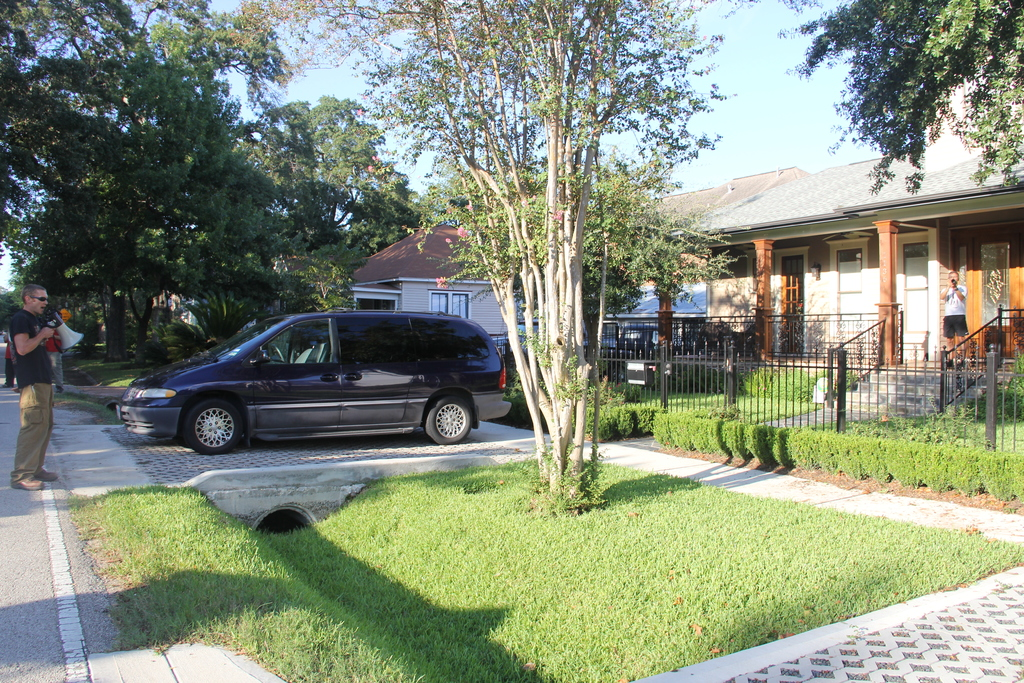Tree: (0, 0, 761, 516), (769, 0, 1023, 198)
